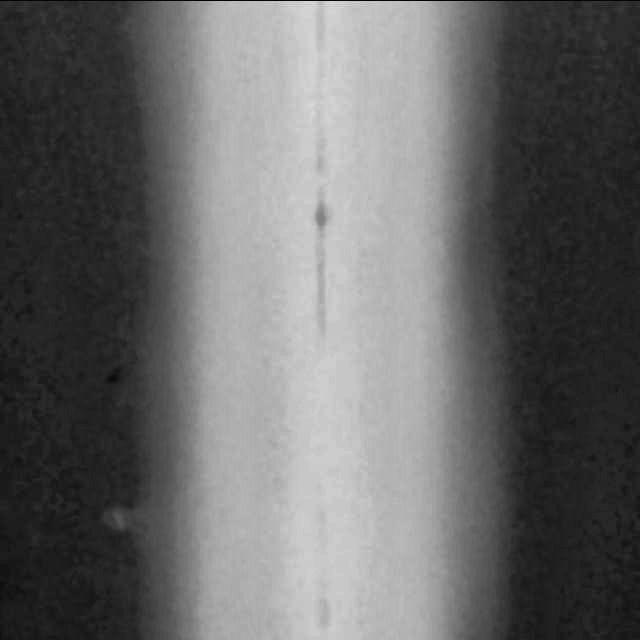LoP-LoF: (295, 4, 366, 630)
